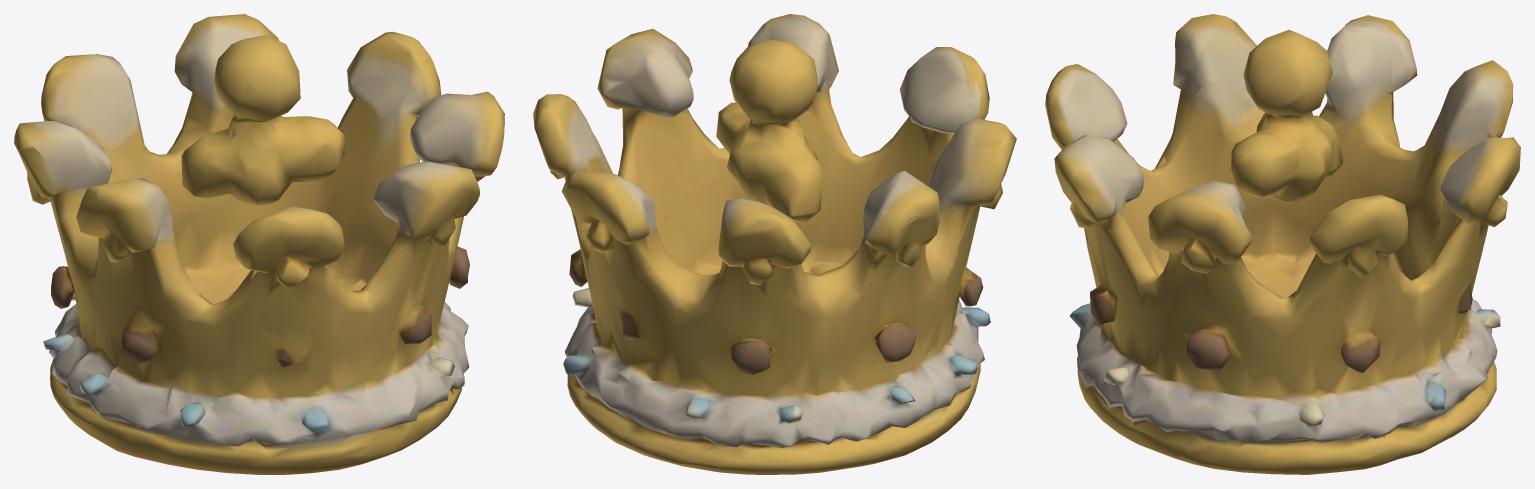
Rendered from crown.glb.
The picture shows the model from 3 angles, left to right: view 1: azimuth 30°, elevation 25°; view 2: azimuth 150°, elevation 25°; view 3: azimuth 270°, elevation 25°; orthographic projection.
Parts seen in each view (by area): view 1: tripo_node_76e80cb0-fe61-43be-a178-d0fbc305945b; view 2: tripo_node_76e80cb0-fe61-43be-a178-d0fbc305945b; view 3: tripo_node_76e80cb0-fe61-43be-a178-d0fbc305945b.
Part boxes in pixels (<box>): tripo_node_76e80cb0-fe61-43be-a178-d0fbc305945b: <box>14,14,504,474</box>; tripo_node_76e80cb0-fe61-43be-a178-d0fbc305945b: <box>533,14,1016,474</box>; tripo_node_76e80cb0-fe61-43be-a178-d0fbc305945b: <box>1045,14,1520,474</box>.
Size of the model in its own units: 0.9955 by 0.8304 by 1.
1 material, 1 textured.
